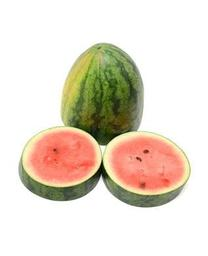watermelon: (15, 125, 192, 209), (56, 41, 147, 145)
